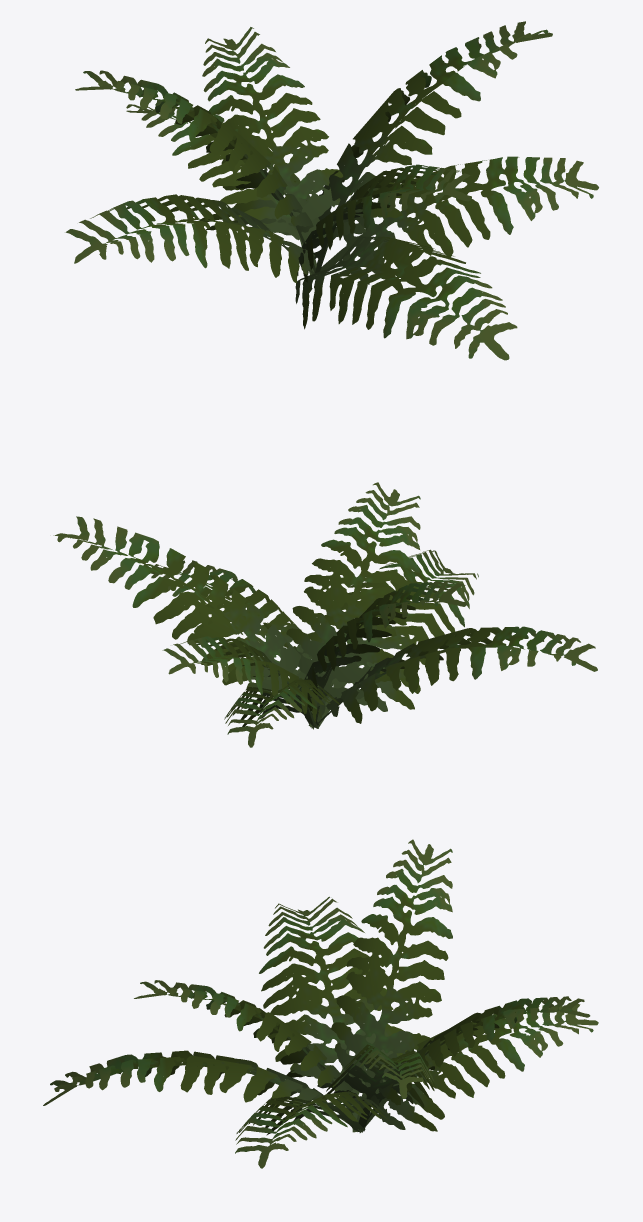
The model's file is GrassBushGreen.fbx.
The picture shows the model from 3 angles, top to bottom: view 1: azimuth 30°, elevation 25°; view 2: azimuth 150°, elevation 25°; view 3: azimuth 270°, elevation 25°; orthographic projection. The views are drawn at different scales.
Parts seen in each view (by area): view 1: GrassBushGreen; view 2: GrassBushGreen; view 3: GrassBushGreen.
Boxes of the visible parts, <box> form: GrassBushGreen: <box>65,21,598,360</box>; GrassBushGreen: <box>53,482,597,747</box>; GrassBushGreen: <box>43,839,598,1168</box>.
Bounding box in the file's own units: 1.41 × 1.38 × 0.6318.
